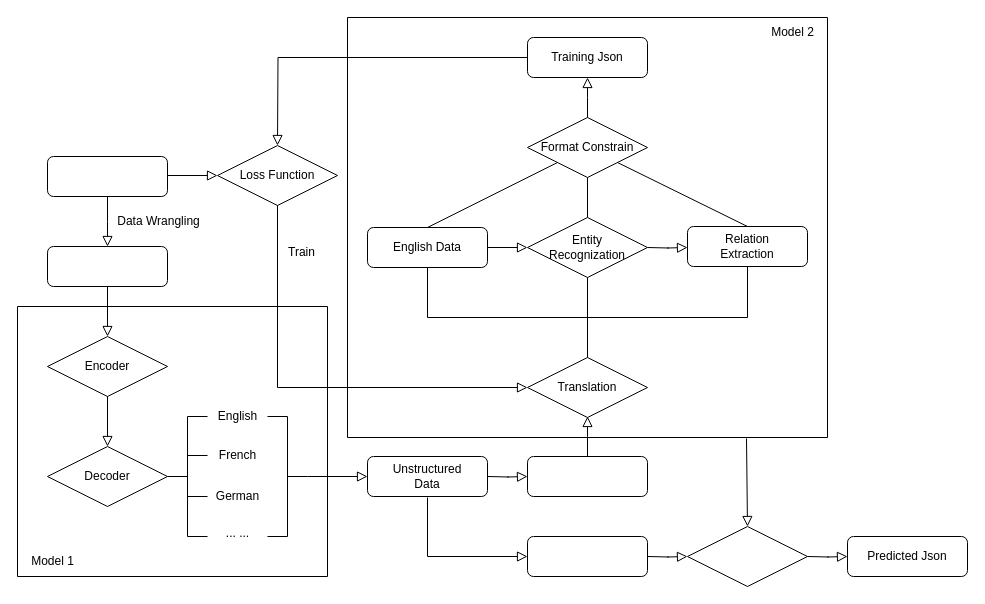
Some shapes in this 985 by 604 pixel diagram are drawn without their labels. The shapes that lost their labels are listed below. From the top down, each one's box as (x1, y1, x2, y2) in pixels, then its label:
(46, 156, 168, 196): Structured Data
(46, 246, 168, 286): Organized Data
(526, 456, 648, 496): Train Dataset
(526, 536, 648, 576): Test Dataset
(686, 526, 808, 586): Trained Model
